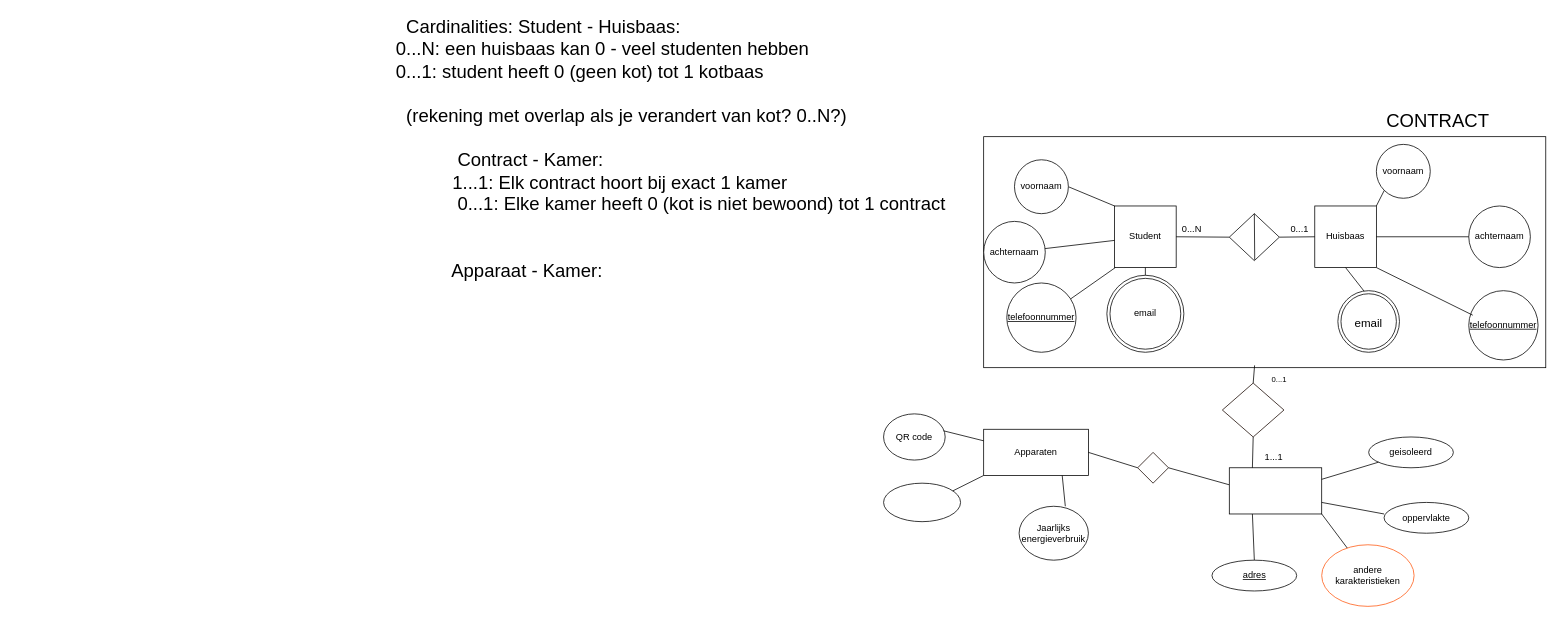
Image size: 1559x620. Some labels were removed from this diagram. Each missing label, with the centre of its shape:
"Energielabel" goes at point (922, 502).
"Kamer" goes at point (1275, 490).
